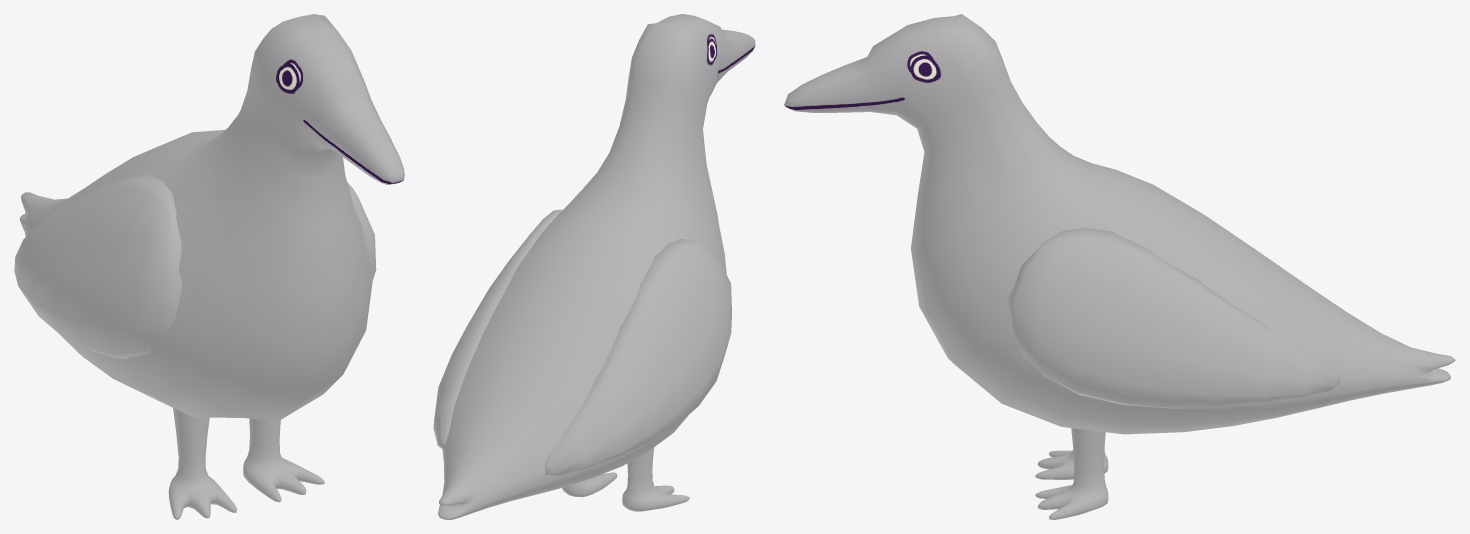
File: crow.glb
The picture shows the model from 3 angles, left to right: view 1: azimuth 30°, elevation 25°; view 2: azimuth 150°, elevation 25°; view 3: azimuth 270°, elevation 25°; orthographic projection. The views are drawn at different scales.
Parts seen in each view (by area): view 1: Cube.001, Cube.002, Cylinder; view 2: Cube.001, Cube.002, Cylinder; view 3: Cube.001, Cube.002, Cylinder.
Boxes of the visible parts, bbox=[...] form: Cube.001: bbox=[19, 14, 404, 420]; Cube.002: bbox=[14, 174, 376, 359]; Cylinder: bbox=[168, 408, 324, 519]; Cube.001: bbox=[438, 14, 755, 519]; Cube.002: bbox=[433, 209, 731, 475]; Cylinder: bbox=[562, 447, 689, 511]; Cube.001: bbox=[784, 14, 1455, 434]; Cube.002: bbox=[1007, 228, 1339, 408]; Cylinder: bbox=[1035, 428, 1108, 519].
Size of the model in its own units: 0.16 by 0.3019 by 0.3931.
Materials: 1 (1 with a texture image).
